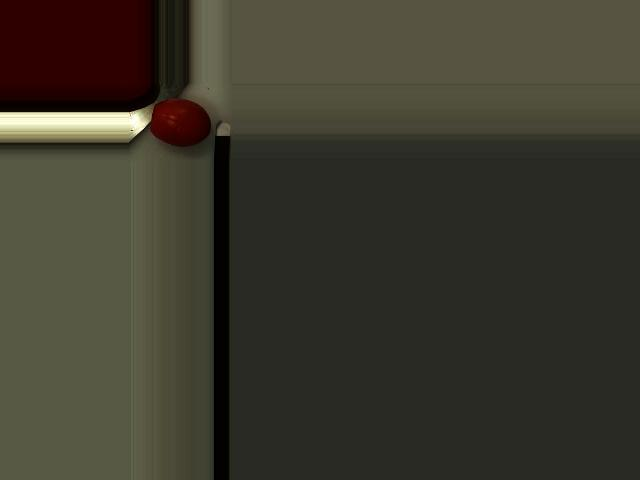tomato: (149, 98, 210, 147)
